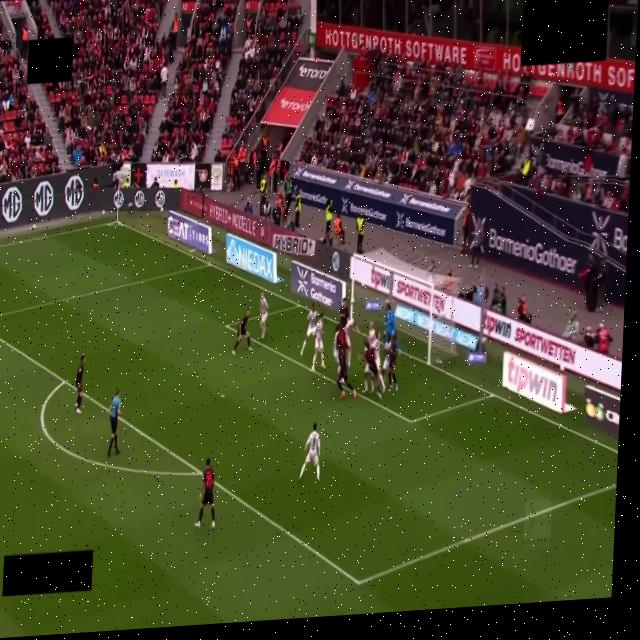ball: (351, 297, 354, 304)
player: (195, 458, 215, 528), (299, 424, 320, 482), (364, 342, 384, 396), (337, 352, 356, 399), (233, 309, 252, 354), (301, 303, 317, 355), (383, 337, 398, 390), (312, 313, 325, 370), (333, 325, 349, 371), (74, 354, 86, 414), (344, 319, 357, 368), (259, 291, 269, 340), (384, 302, 395, 341), (338, 297, 350, 328), (333, 324, 341, 364), (368, 322, 376, 343)
referee: (107, 390, 121, 455)
